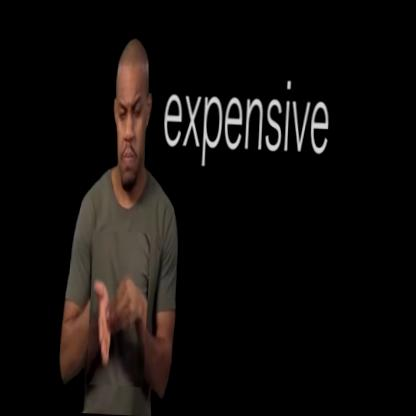Expensive: (88, 230, 151, 387)
